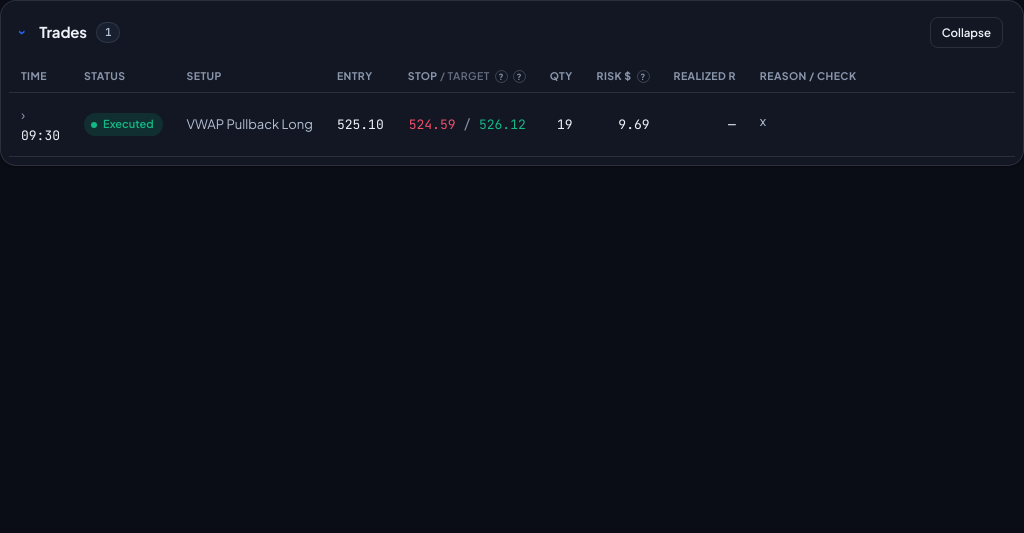
Test: JournalTable › clicking a row toggles the expanded indicator snapshot (FR-011)
Expected: the text "524.88" is not shown
Expected: the text "09:30" is shown, [21,126,60,144]
Step 1. Click the text "09:30" → (512, 124), box [9,92,1015,156]
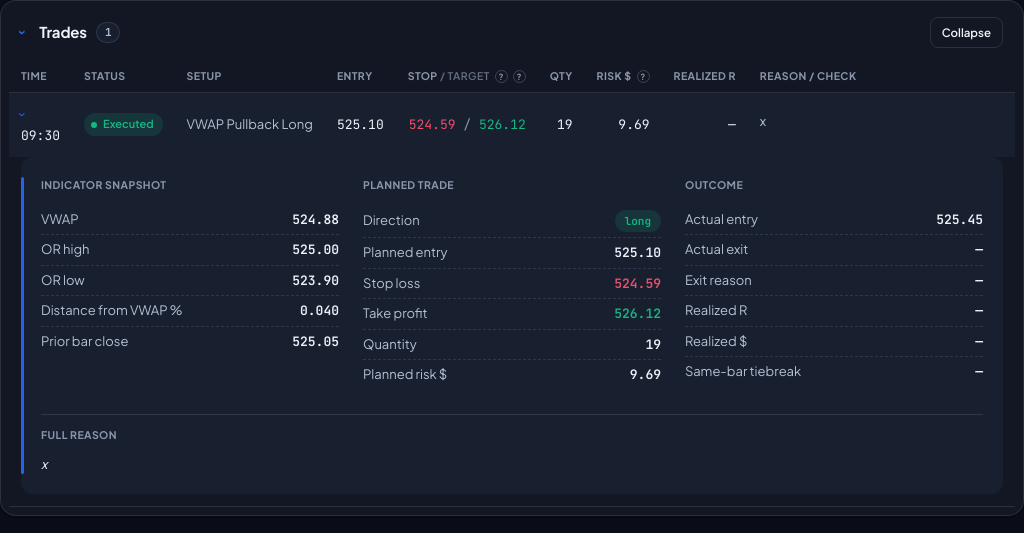
Now the text "Indicator snapshot" is shown, box [41,178,166,191]
Now the text "Planned trade" is shown, box [363,178,454,191]
Now the text "Outcome" is shown, box [685,178,743,191]
Click again collapses.
Step 2. Click the text "09:30" → (512, 124), box [9,92,1015,156]
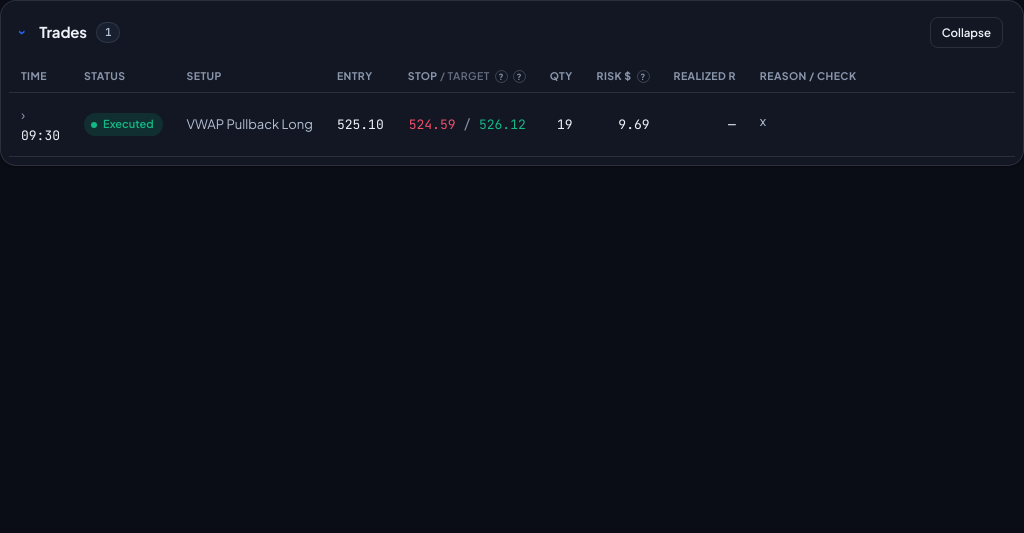
Now the text "Indicator snapshot" is gone
